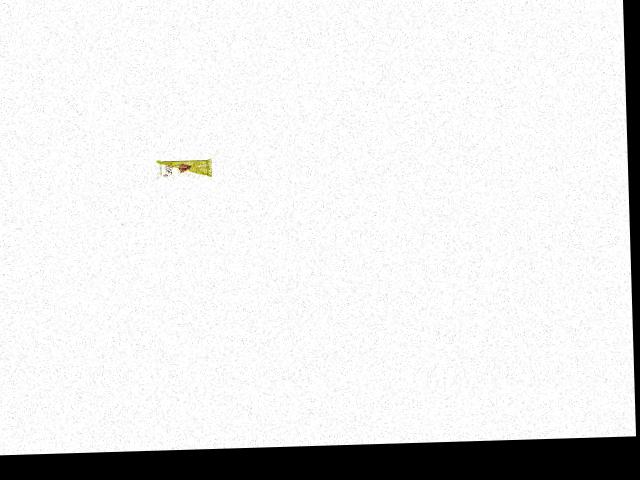chocolate: (152, 153, 215, 183)
